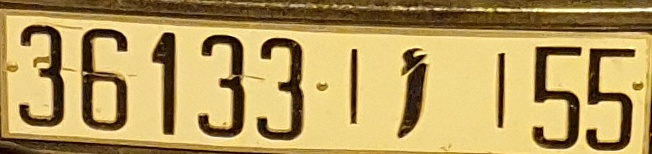1: (148, 27, 180, 138)
3: (196, 33, 248, 140), (17, 20, 68, 129), (254, 37, 306, 143)
5: (584, 44, 639, 152), (529, 46, 584, 150)
6: (78, 27, 131, 132)
a: (394, 44, 434, 141)
